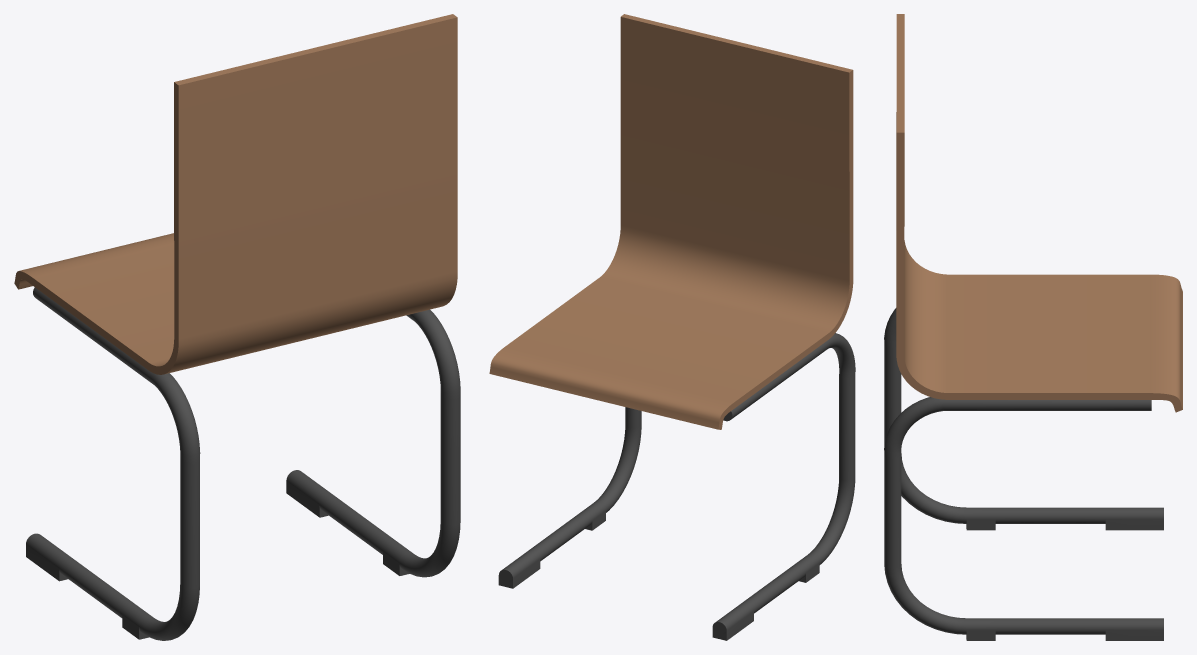
The model's file is stoel_1.fbx.
The picture shows the model from 3 angles, left to right: view 1: azimuth 30°, elevation 25°; view 2: azimuth 150°, elevation 25°; view 3: azimuth 270°, elevation 25°; orthographic projection. The views are drawn at different scales.
Parts seen in each view (by area): view 1: Cube; view 2: Cube; view 3: Cube.
Part boxes in pixels (box(x1,y1,x2,y2)): Cube: box(14, 14, 460, 640); Cube: box(489, 14, 855, 640); Cube: box(884, 14, 1182, 640).
Bounding box in the file's own units: 275 × 550 × 293.
